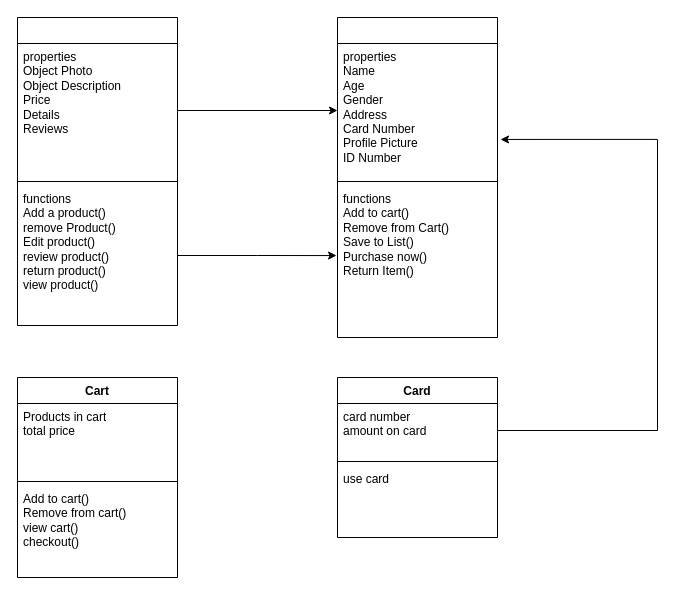
Some shapes in this 683 by 598 pixel diagram are drawn without their labels. Each missing label, with the box of its shape:
Customers: (336, 16, 498, 338)
Products: (16, 16, 178, 326)
